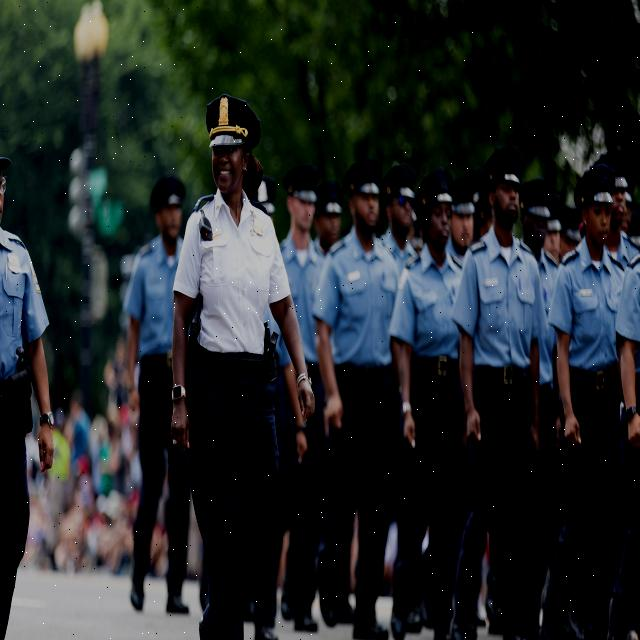police: (156, 59, 312, 640), (320, 130, 472, 640), (551, 147, 640, 640), (469, 158, 556, 640), (0, 127, 66, 640)
